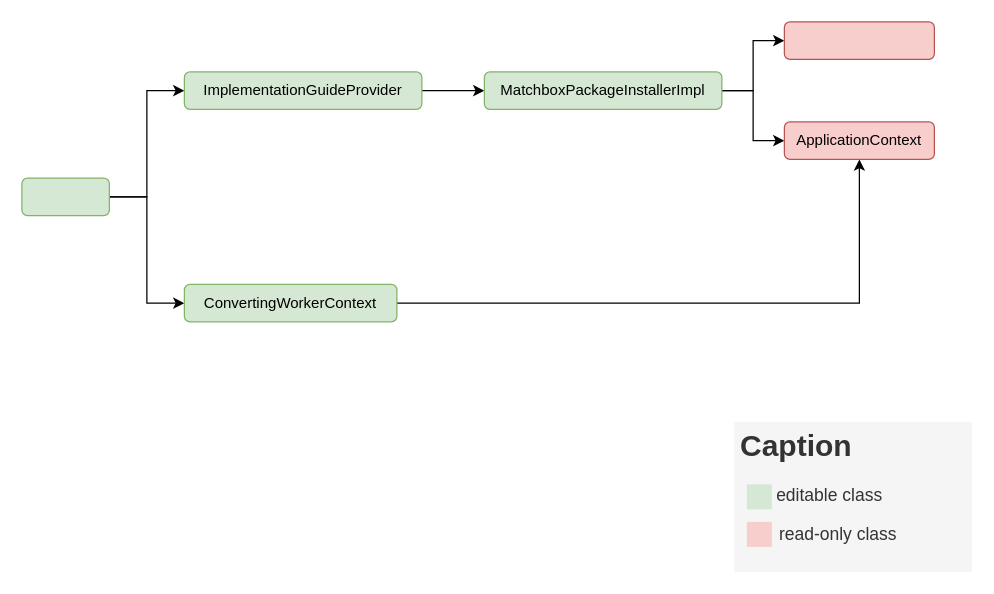
Image size: 994x594. Some labels were removed from this diagram. The shapes that lost their labels are listed below. From the top down, each one's box as (x1, y1, x2, y2) in pixels, then its label:
(783, 21, 934, 59): JpaPackageCache
(21, 177, 109, 216): Transform
